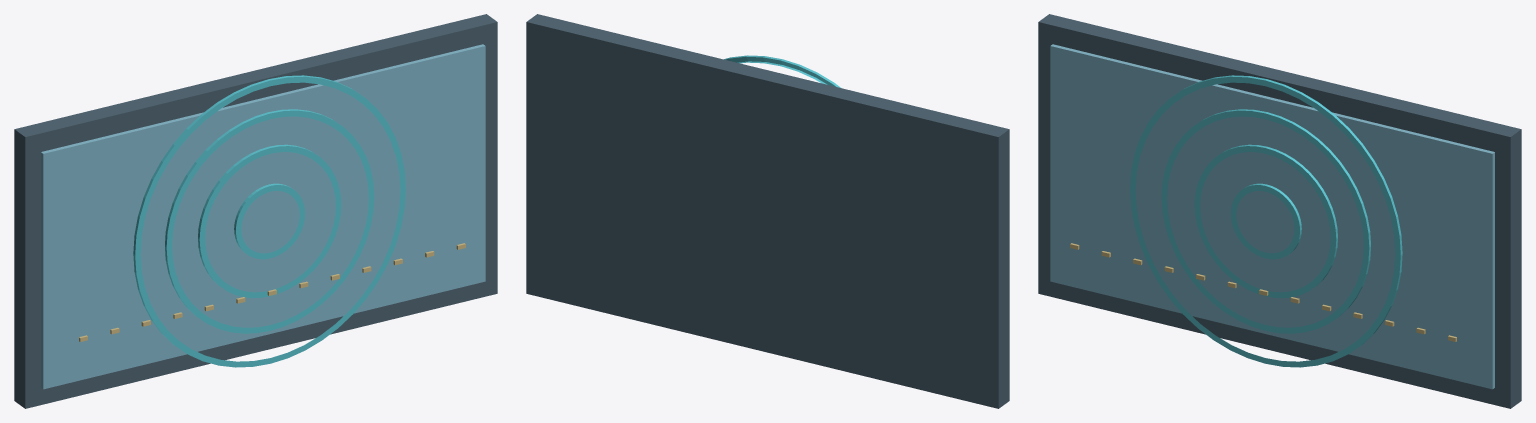
The model's file is 41_L79_HolographicBondWaveCrossSection.glb.
3 views of the same model, side by side, from view 1: azimuth 30°, elevation 25°; view 2: azimuth 150°, elevation 25°; view 3: azimuth 330°, elevation 25° (orthographic).
Visible parts, largest first — view 1: HolographicBondWaveCrossSection_Node_0001, HolographicBondWaveCrossSection_Node_0000, HolographicBondWaveCrossSection_Node_0005, HolographicBondWaveCrossSection_Node_0004, HolographicBondWaveCrossSection_Node_0003, HolographicBondWaveCrossSection_Node_0002; view 2: HolographicBondWaveCrossSection_Node_0000, HolographicBondWaveCrossSection_Node_0005; view 3: HolographicBondWaveCrossSection_Node_0001, HolographicBondWaveCrossSection_Node_0000, HolographicBondWaveCrossSection_Node_0005, HolographicBondWaveCrossSection_Node_0004, HolographicBondWaveCrossSection_Node_0003, HolographicBondWaveCrossSection_Node_0002.
Part boxes in pixels (bbox=[...]): HolographicBondWaveCrossSection_Node_0001: bbox=[41, 44, 485, 389]; HolographicBondWaveCrossSection_Node_0000: bbox=[14, 14, 497, 408]; HolographicBondWaveCrossSection_Node_0005: bbox=[133, 75, 405, 367]; HolographicBondWaveCrossSection_Node_0004: bbox=[165, 109, 374, 333]; HolographicBondWaveCrossSection_Node_0003: bbox=[198, 144, 341, 298]; HolographicBondWaveCrossSection_Node_0002: bbox=[234, 183, 304, 259]; HolographicBondWaveCrossSection_Node_0000: bbox=[526, 14, 1009, 408]; HolographicBondWaveCrossSection_Node_0005: bbox=[724, 55, 840, 87]; HolographicBondWaveCrossSection_Node_0001: bbox=[1050, 44, 1494, 389]; HolographicBondWaveCrossSection_Node_0000: bbox=[1038, 14, 1521, 408]; HolographicBondWaveCrossSection_Node_0005: bbox=[1130, 75, 1402, 367]; HolographicBondWaveCrossSection_Node_0004: bbox=[1161, 109, 1370, 333]; HolographicBondWaveCrossSection_Node_0003: bbox=[1194, 144, 1337, 298]; HolographicBondWaveCrossSection_Node_0002: bbox=[1231, 183, 1301, 259].
Bounding box in the file's own units: 3 × 1.72 × 0.2475.
